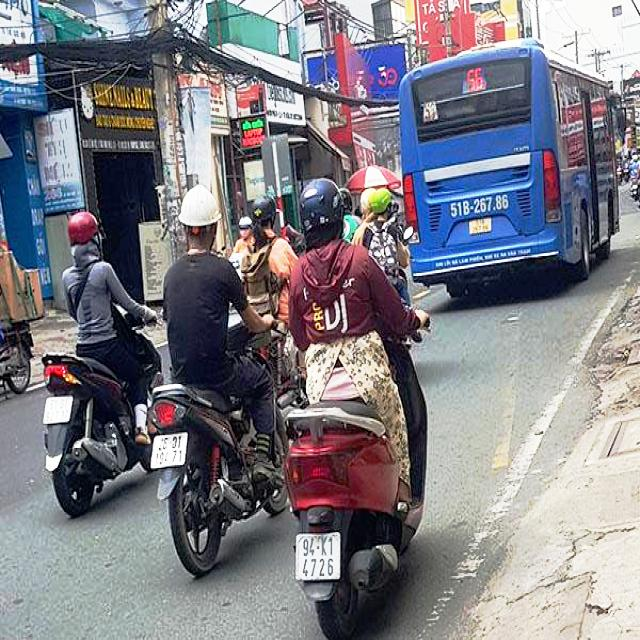license_plate: (298, 536, 339, 581), (44, 398, 73, 424)
